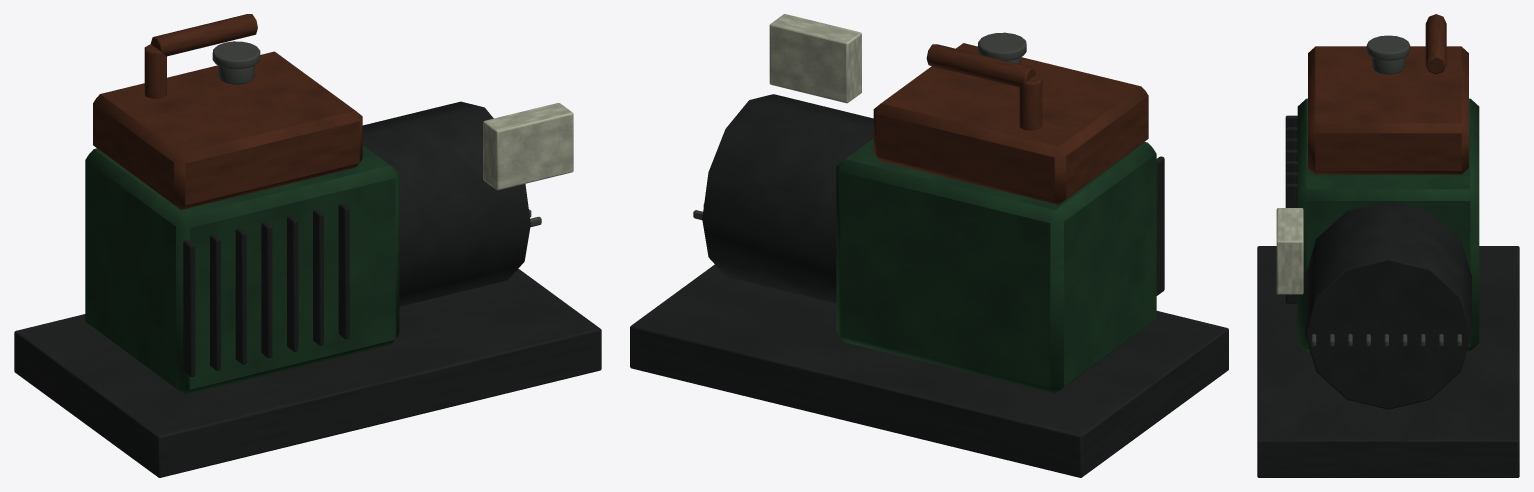
File: level_trace_generator_refined.glb
The picture shows the model from 3 angles, left to right: view 1: azimuth 30°, elevation 25°; view 2: azimuth 150°, elevation 25°; view 3: azimuth 270°, elevation 25°; orthographic projection. The views are drawn at different scales.
Parts seen in each view (by area): view 1: level_trace_generator_refined; view 2: level_trace_generator_refined; view 3: level_trace_generator_refined.
Boxes of the visible parts, x1,y1,x2,y2 form: level_trace_generator_refined: [14, 14, 601, 477]; level_trace_generator_refined: [630, 14, 1228, 477]; level_trace_generator_refined: [1257, 14, 1519, 477].
Bounding box in the file's own units: 1.55 × 1.15 × 0.88.
Materials: 5 (5 with a texture image).
